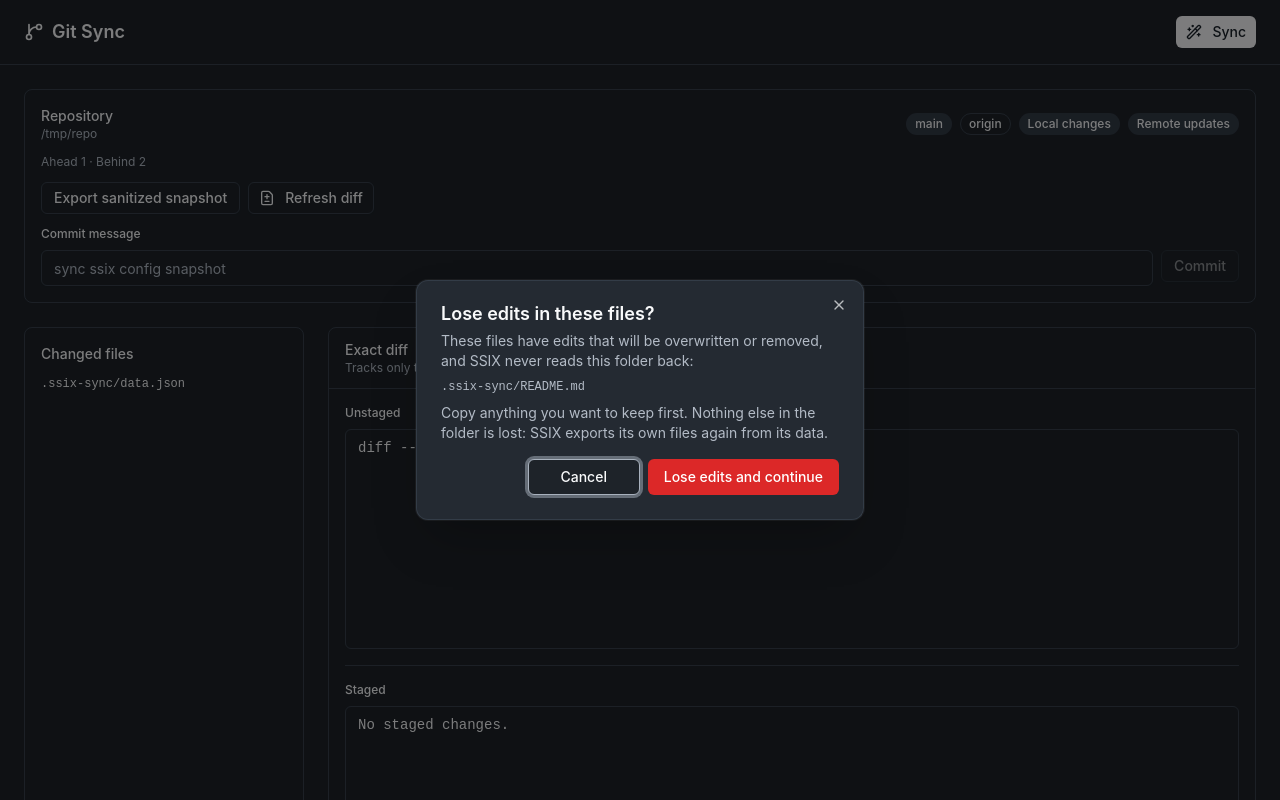
Test: GitSyncView › cancelling closes the dialog without rerunning or an error
What coordinates should you click on to do the following:
click the button with test id "git-sync-discard-cancel"
I would click on:
 (584, 477)
Its box is [528, 459, 640, 495].
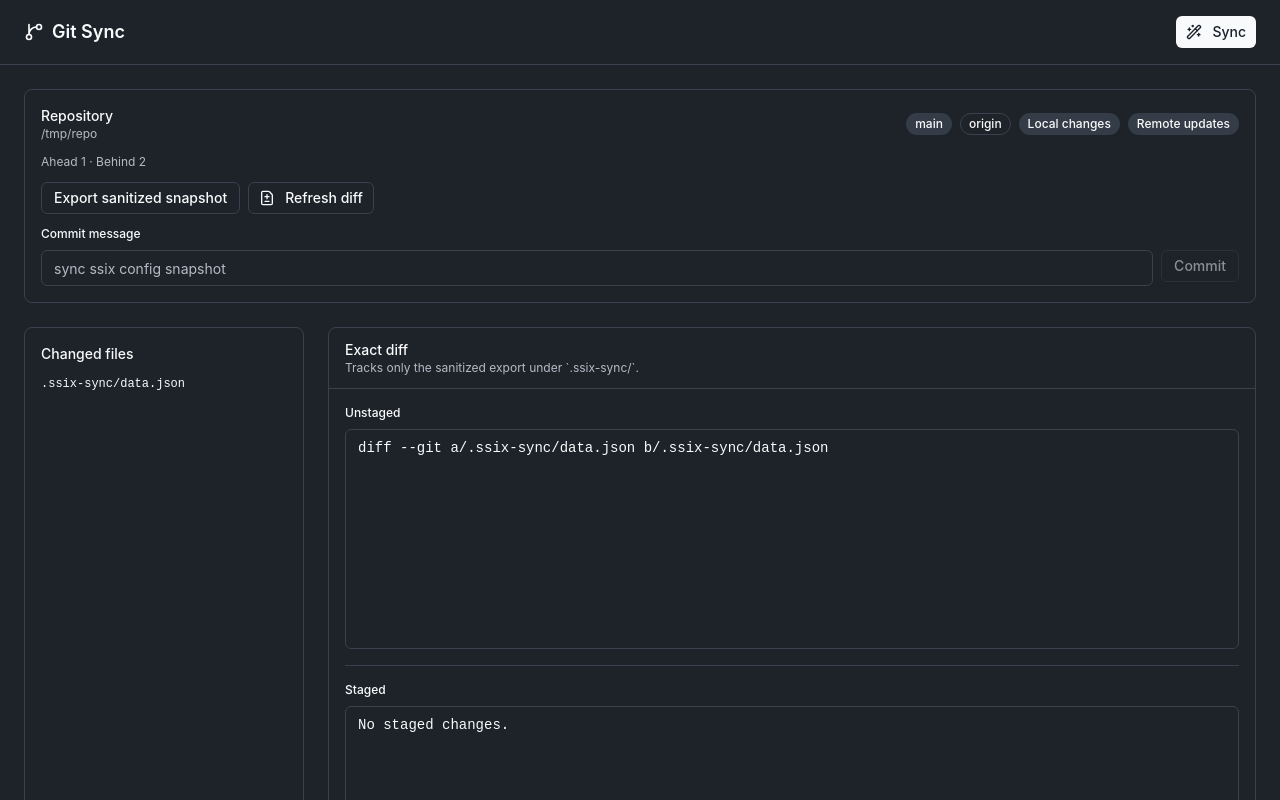
Result: the dialog with test id "git-sync-discard" is gone
